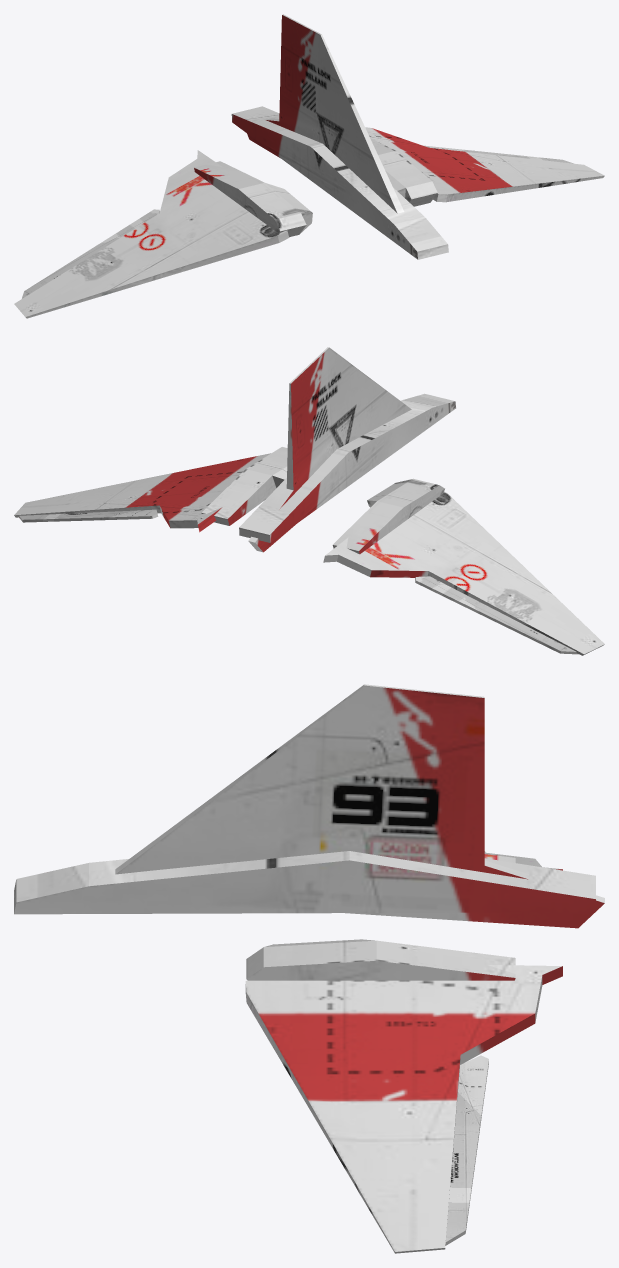
The model's file is tailwing01.FBX.
3 views of the same model, one above another, from view 1: azimuth 30°, elevation 25°; view 2: azimuth 150°, elevation 25°; view 3: azimuth 270°, elevation 25° (orthographic). The views are drawn at different scales.
Visible parts, largest first — view 1: tailwing01; view 2: tailwing01; view 3: tailwing01.
Part boxes in pixels (left/top/right/bottom): tailwing01: left=14, top=14, right=604, bottom=318; tailwing01: left=14, top=347, right=604, bottom=655; tailwing01: left=14, top=684, right=604, bottom=1253.
Size of the model in its own units: 988 by 361 by 559.
